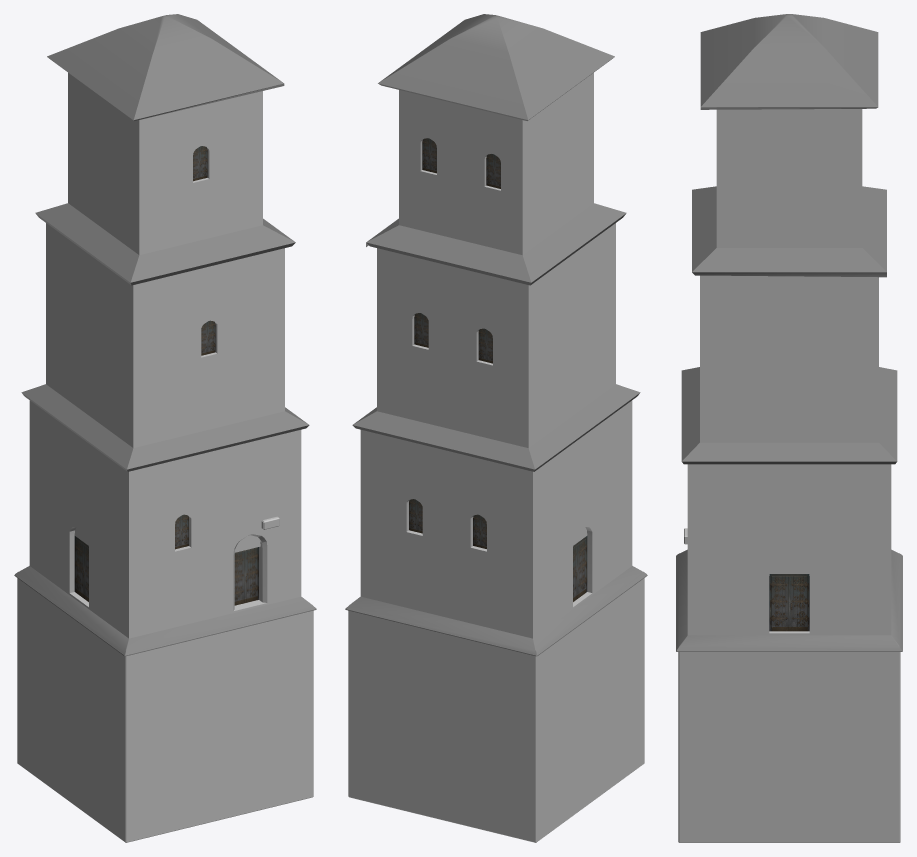
The model's file is tower_4_LOD.fbx.
The picture shows the model from 3 angles, left to right: view 1: azimuth 30°, elevation 25°; view 2: azimuth 150°, elevation 25°; view 3: azimuth 270°, elevation 25°; orthographic projection. The views are drawn at different scales.
Parts seen in each view (by area): view 1: Mesh; view 2: Mesh; view 3: Mesh.
Boxes of the visible parts, x1,y1,x2,y2 form: Mesh: [14, 14, 316, 842]; Mesh: [345, 14, 647, 842]; Mesh: [676, 14, 902, 842].
Size of the model in its own units: 929 by 3532 by 929.
